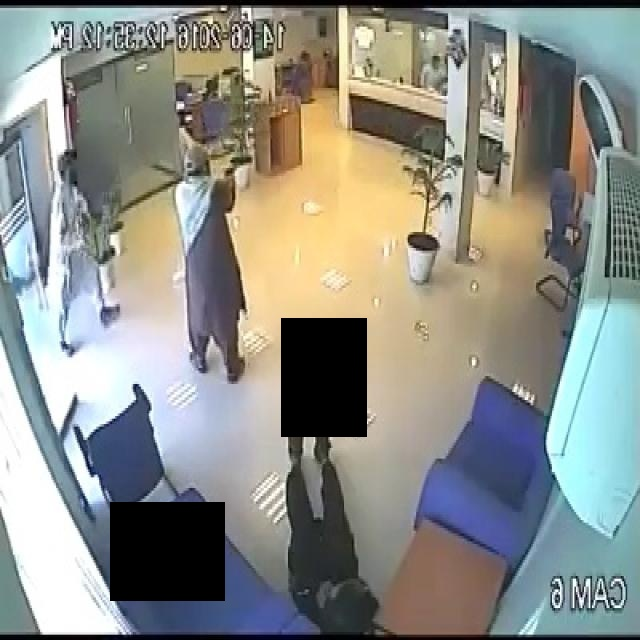gun: (227, 159, 236, 175)
